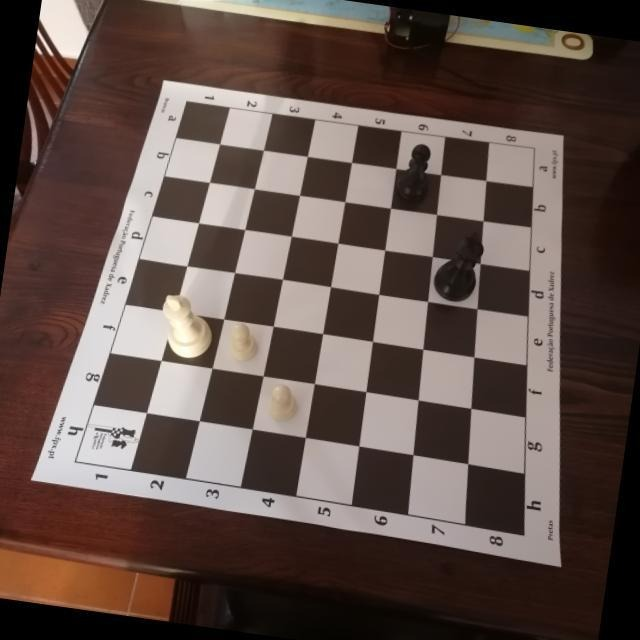black-bishop: (395, 139, 437, 204)
black-king: (431, 226, 487, 306)
white-king: (155, 292, 217, 362)
white-pawn: (226, 320, 262, 364), (264, 382, 300, 424)
